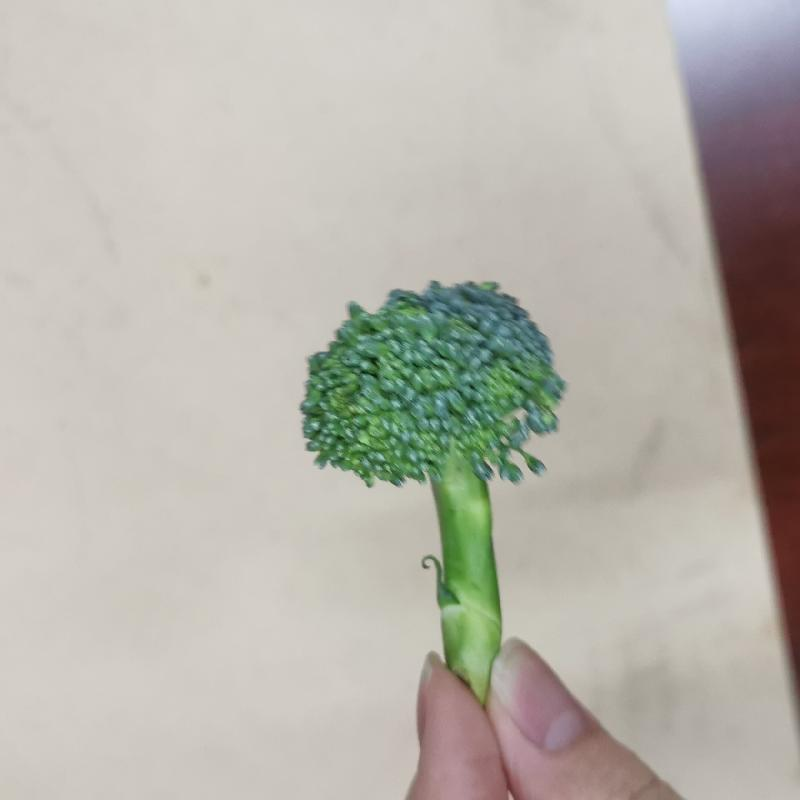broccoli: (280, 276, 565, 701)
